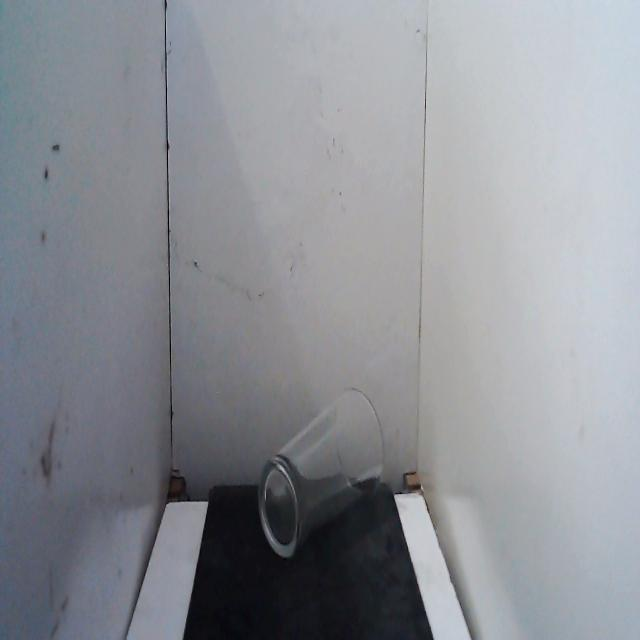vidro: (256, 378, 388, 572)
